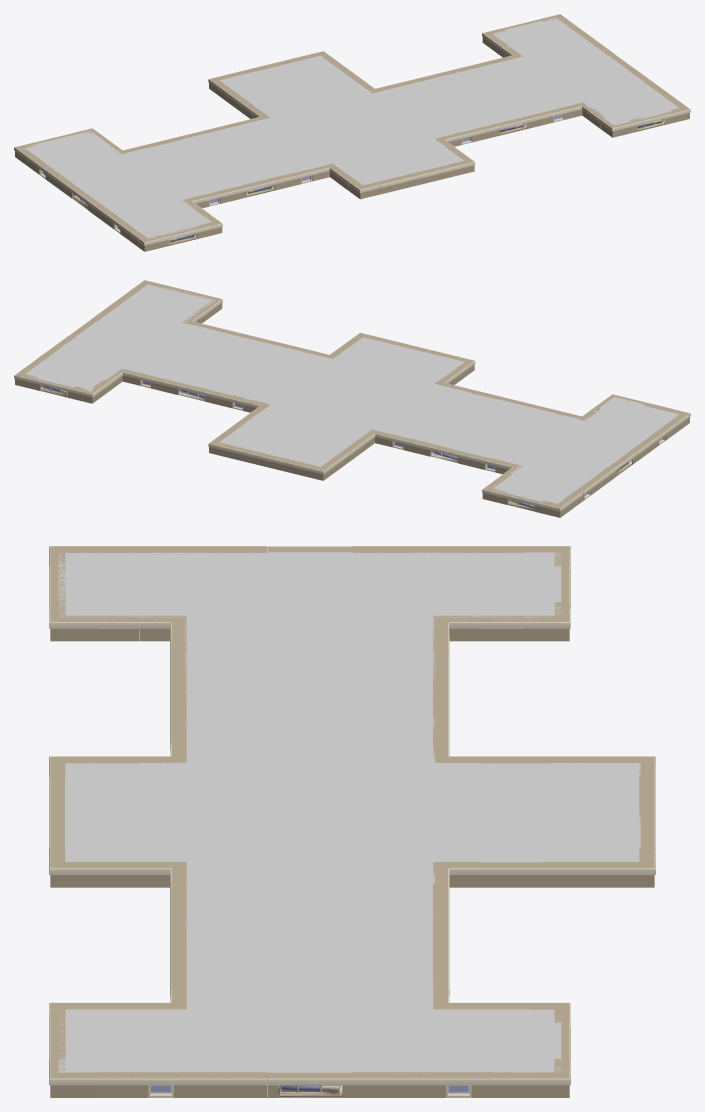
File: SM_Foundation.glb
The picture shows the model from 3 angles, top to bottom: view 1: azimuth 30°, elevation 25°; view 2: azimuth 150°, elevation 25°; view 3: azimuth 270°, elevation 25°; orthographic projection. The views are drawn at different scales.
Visible parts, largest first — view 1: Cube, Foundation; view 2: Cube, Foundation; view 3: Cube, Foundation.
Part boxes in pixels (x1,y1,x2,y2): Cube: (25, 17, 679, 238); Foundation: (14, 14, 690, 251); Cube: (26, 284, 679, 503); Foundation: (14, 280, 690, 517); Cube: (58, 552, 640, 1083); Foundation: (49, 546, 655, 1097).
Bounding box in the file's own units: 59.35 × 1.01 × 28.55.
